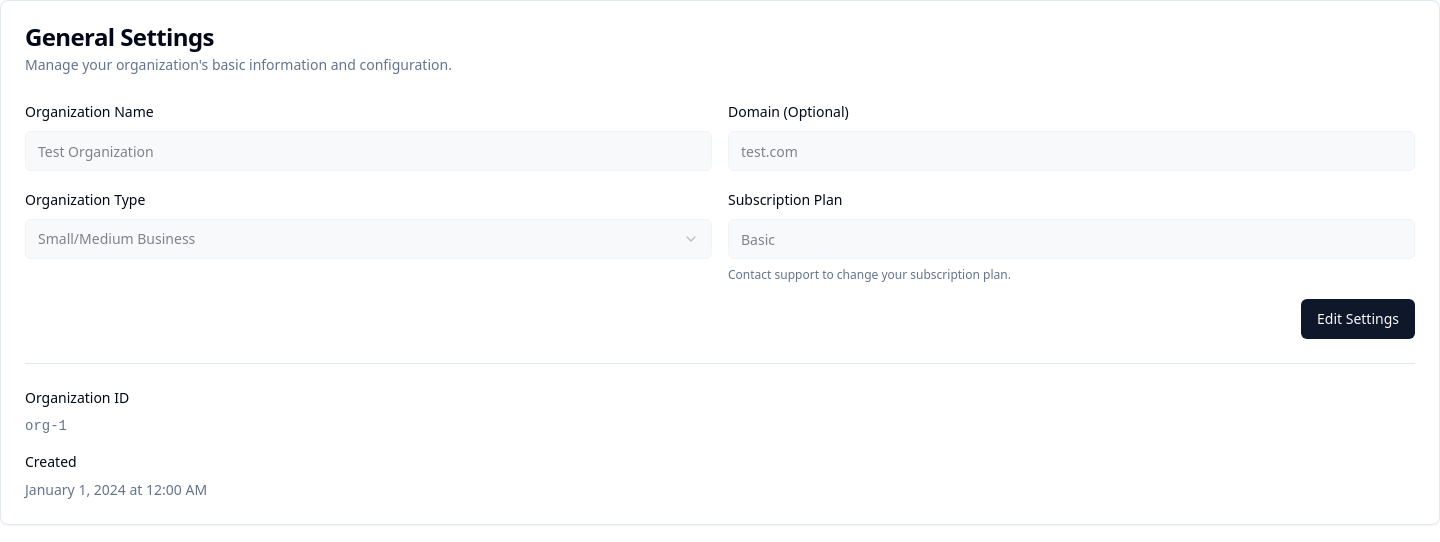
Scenario: OrganizationSettings › cancels editing and resets form
Note: Enable editing
Click the button "Edit Settings" at (1358, 319), box [1301, 299, 1415, 339]
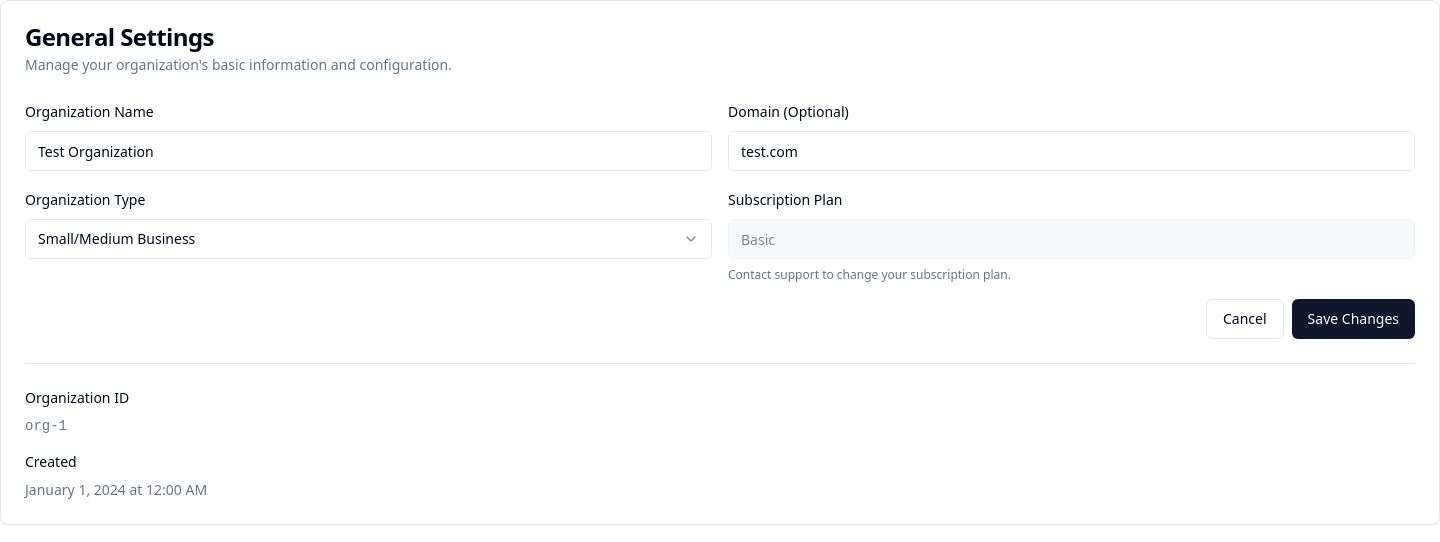
Note: Change organization name
Replace the text in the field showing "Test Organization" with "Changed Name" at (368, 151), box [25, 131, 712, 171]
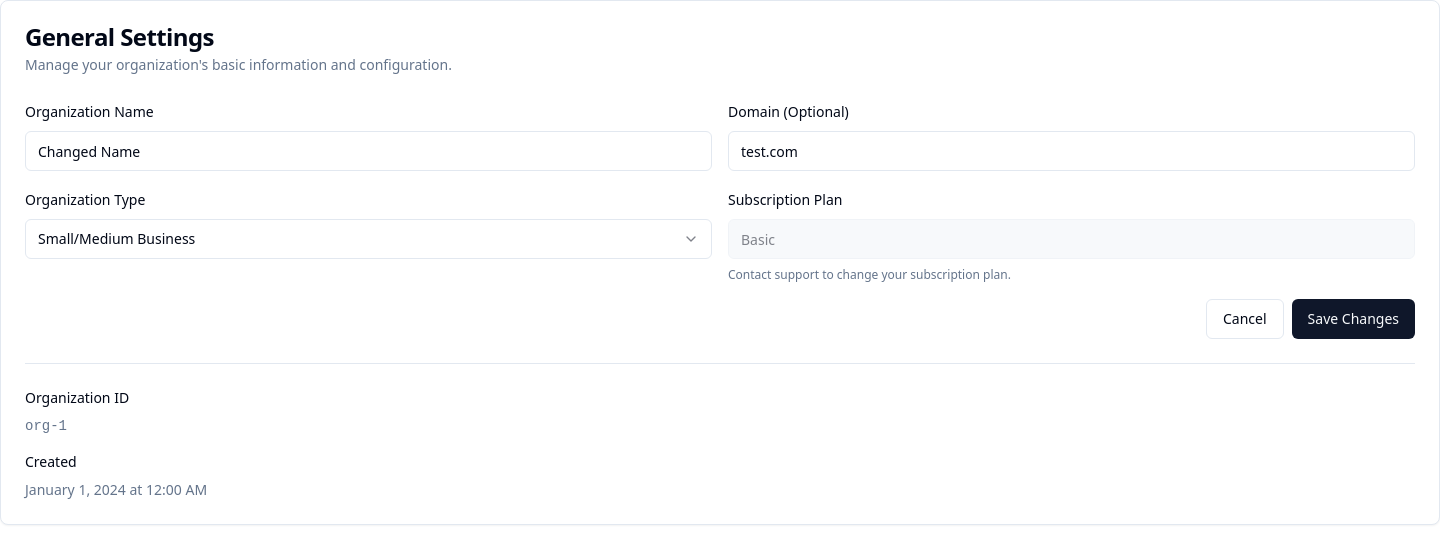
Note: Cancel editing
Click the button "Cancel" at (1245, 319), box [1206, 299, 1284, 339]
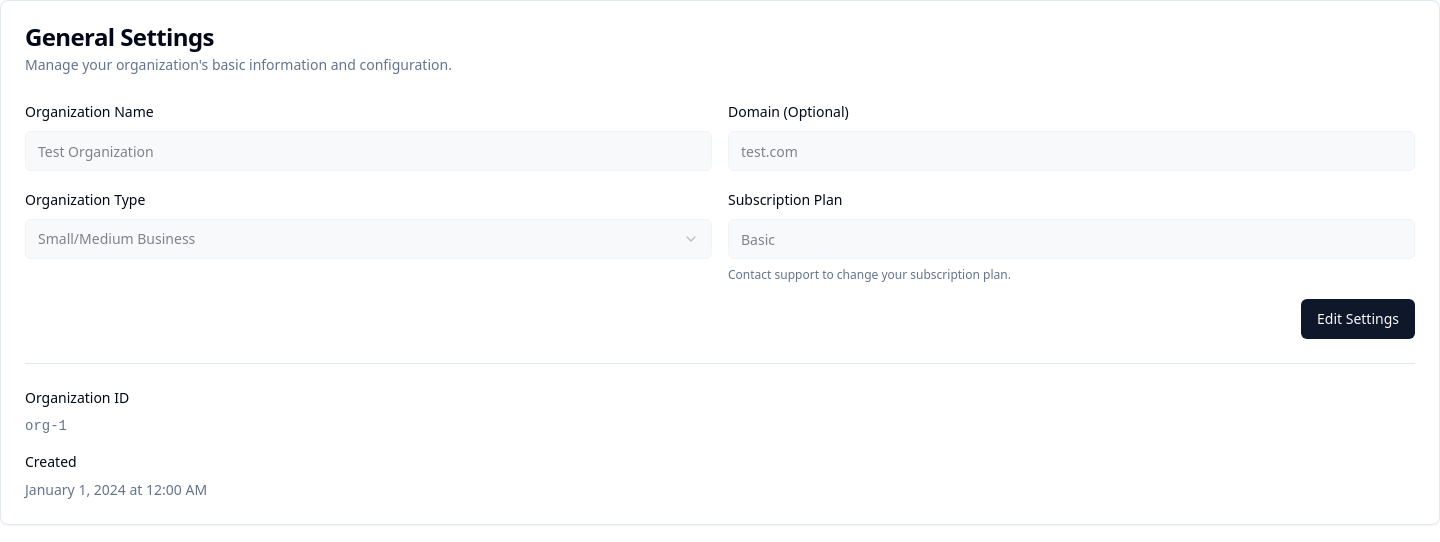
Expected: the field showing "Test Organization" is shown, [25, 131, 712, 171]
Expected: the button "Edit Settings" is shown, [1301, 299, 1415, 339]
